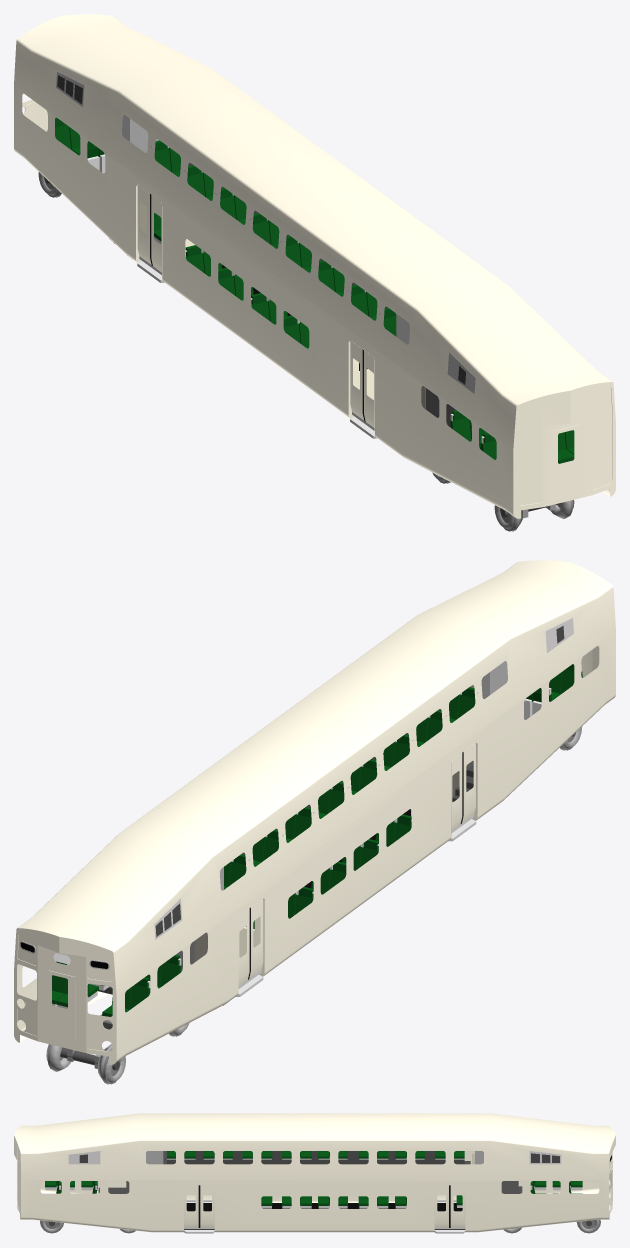
The model's file is bilevel coach.glb.
The picture shows the model from 3 angles, top to bottom: view 1: azimuth 30°, elevation 25°; view 2: azimuth 150°, elevation 25°; view 3: azimuth 270°, elevation 25°; orthographic projection. The views are drawn at different scales.
Visible parts, largest first — view 1: group_8, group_10, instance_202_1, instance_201_1; view 2: group_8, group_6, instance_202_1, instance_201_1; view 3: group_8, Box_4, instance_201, instance_202, group_10, group_6, Box_46.
Boxes of the visible parts, bbox=[...] form: group_8: bbox=[14, 14, 611, 516]; group_10: bbox=[513, 382, 615, 518]; instance_202_1: bbox=[348, 340, 377, 438]; instance_201_1: bbox=[136, 184, 164, 282]; group_8: bbox=[17, 560, 615, 1062]; group_6: bbox=[14, 928, 116, 1064]; instance_202_1: bbox=[449, 742, 477, 841]; instance_201_1: bbox=[236, 898, 264, 996]; group_8: bbox=[14, 1113, 615, 1232]; Box_4: bbox=[167, 1151, 464, 1164]; instance_201: bbox=[434, 1185, 465, 1233]; instance_202: bbox=[184, 1185, 214, 1233]; group_10: bbox=[14, 1135, 20, 1219]; group_6: bbox=[609, 1135, 615, 1219]; Box_46: bbox=[146, 1151, 163, 1164].
Size of the model in its own units: 3 by 4.96 by 25.91.
